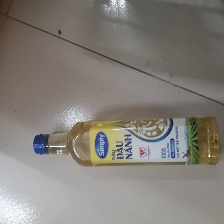Simply: (32, 114, 221, 167)
